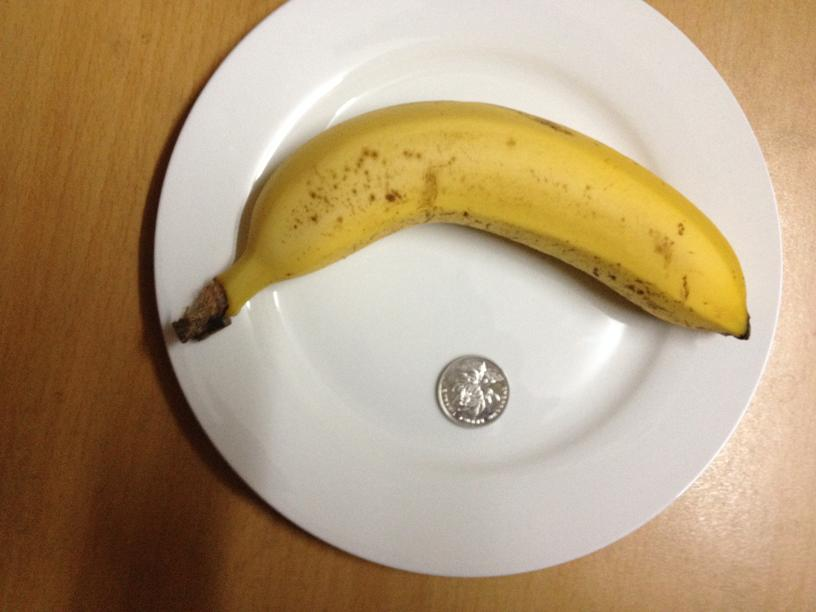banana: (182, 95, 754, 343)
coin: (435, 355, 508, 426)
